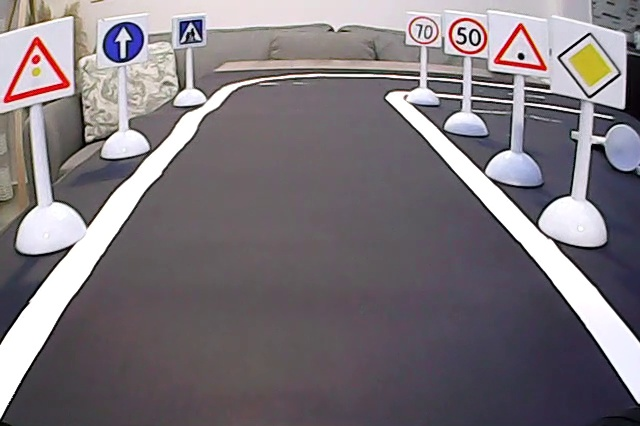green light: (492, 18, 549, 74)
red light: (1, 33, 74, 104)
school crossing: (176, 17, 204, 47)
speed limit 50: (447, 16, 488, 54)
speed limit 70: (407, 15, 441, 45)
